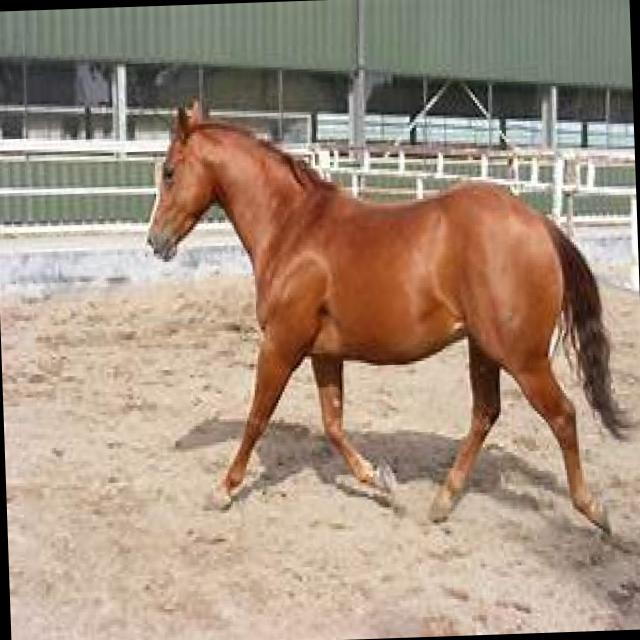animal: (115, 54, 630, 527)
